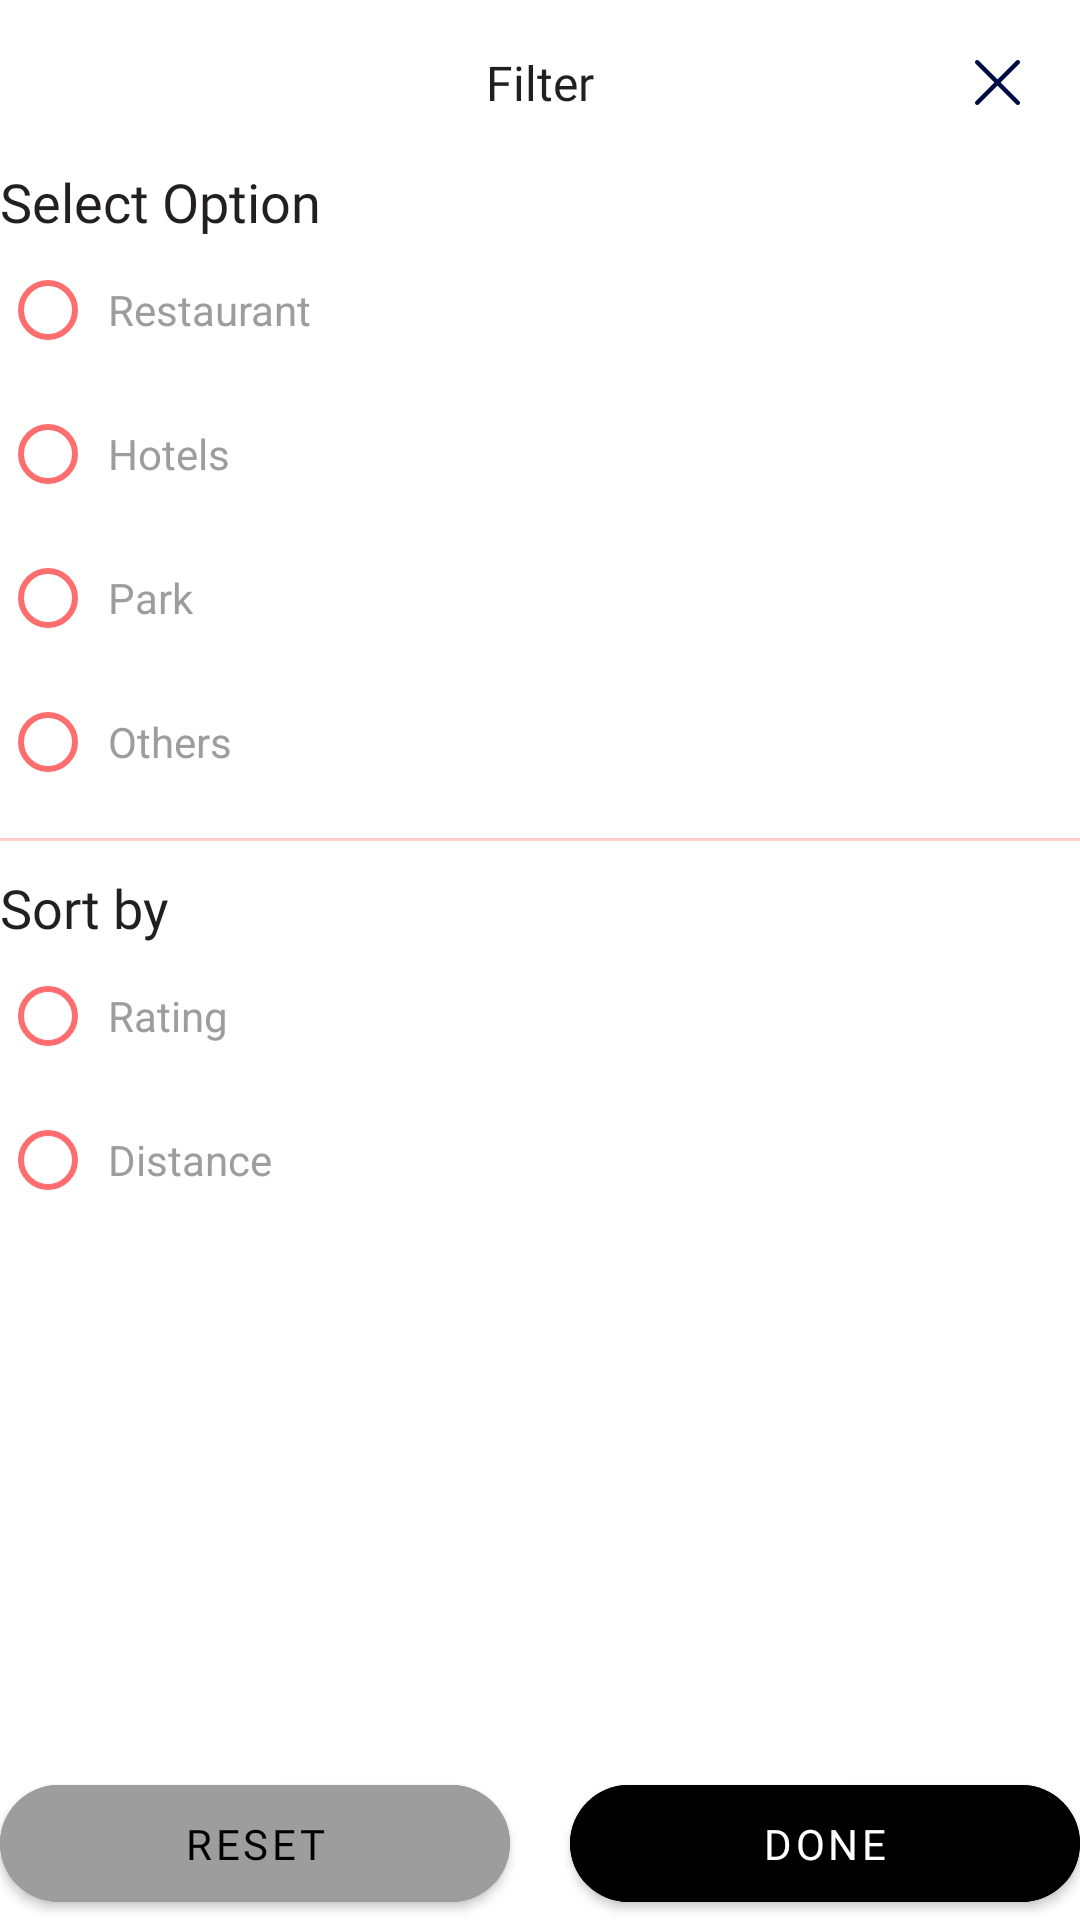

Icons on this 1080×1920 Android screen, each with its box as (x1, y1, x2, y2):
close: (975, 60, 1020, 105)
